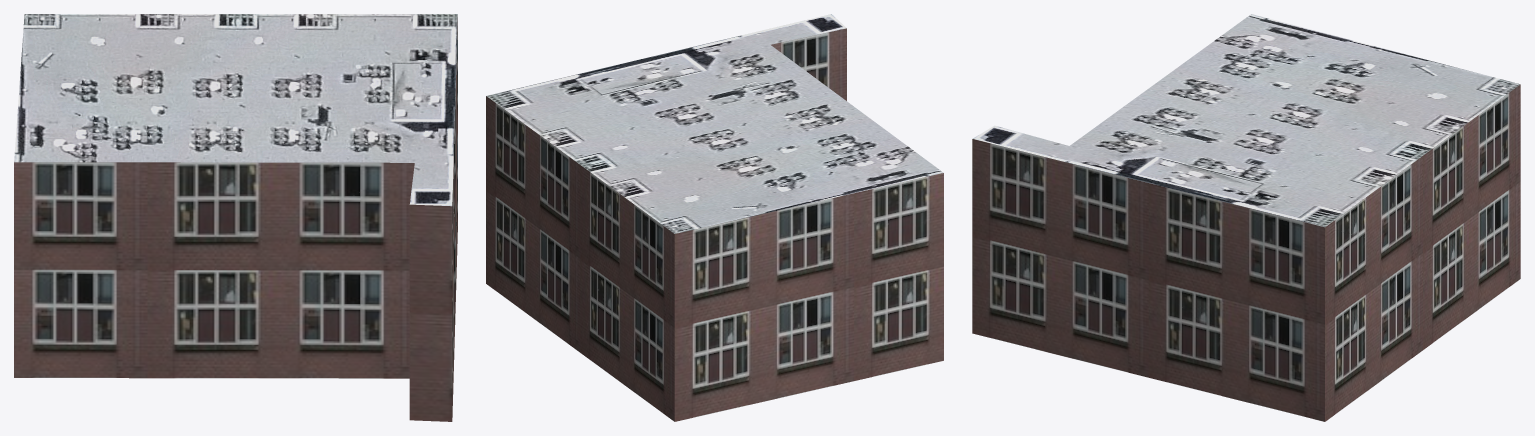
The model's file is ResTex__4070.fbx.
The picture shows the model from 3 angles, left to right: view 1: azimuth 30°, elevation 25°; view 2: azimuth 150°, elevation 25°; view 3: azimuth 270°, elevation 25°; orthographic projection. The views are drawn at different scales.
Parts seen in each view (by area): view 1: CityEngineMaterial_12_m, CityEngineMaterial_8_m; view 2: CityEngineMaterial_12_m, CityEngineMaterial_8_m; view 3: CityEngineMaterial_12_m, CityEngineMaterial_8_m.
Part boxes in pixels (x1=…): CityEngineMaterial_12_m: x1=14, y1=17, x2=457, y2=421; CityEngineMaterial_8_m: x1=14, y1=14, x2=457, y2=206; CityEngineMaterial_12_m: x1=486, y1=28, x2=943, y2=421; CityEngineMaterial_8_m: x1=486, y1=14, x2=943, y2=233; CityEngineMaterial_12_m: x1=972, y1=84, x2=1520, y2=421; CityEngineMaterial_8_m: x1=972, y1=14, x2=1519, y2=227.
Size of the model in its own units: 14.11 by 6 by 15.32.
2 materials, 2 textured.
